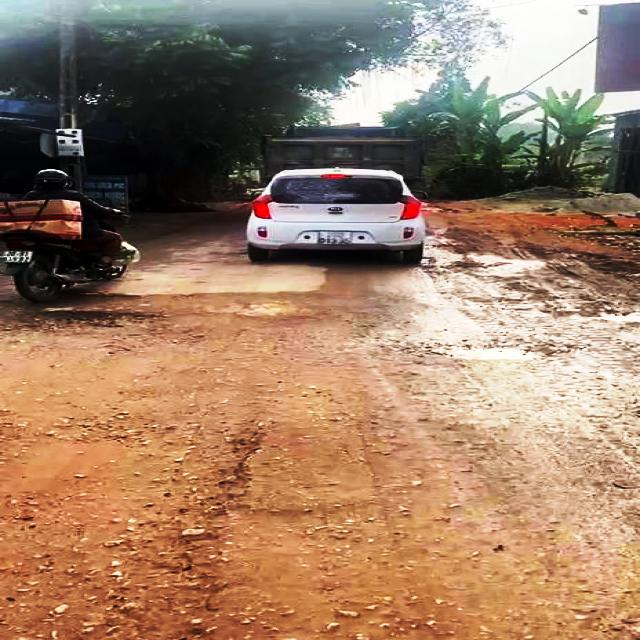pothole: (0, 415, 269, 640), (14, 306, 164, 338), (426, 339, 567, 370)
